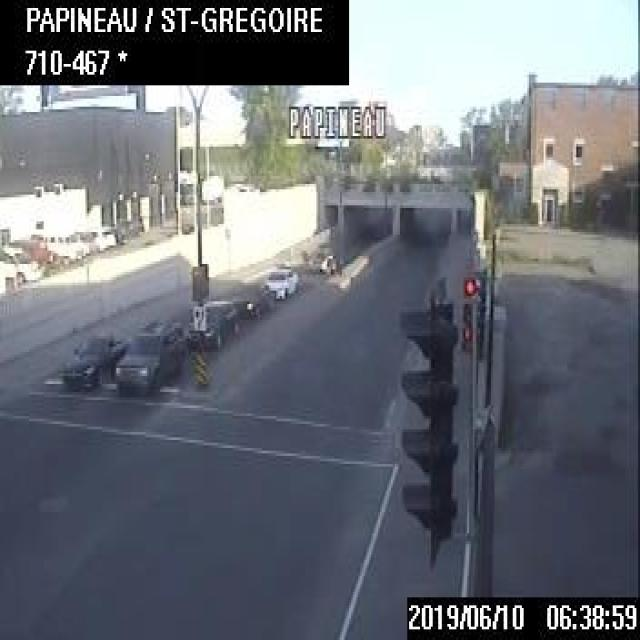vehicle: (112, 318, 184, 389), (60, 332, 128, 387), (184, 295, 238, 349), (40, 226, 90, 260), (230, 280, 273, 316), (0, 244, 40, 281), (263, 265, 300, 302), (304, 243, 338, 273), (86, 223, 116, 250)
